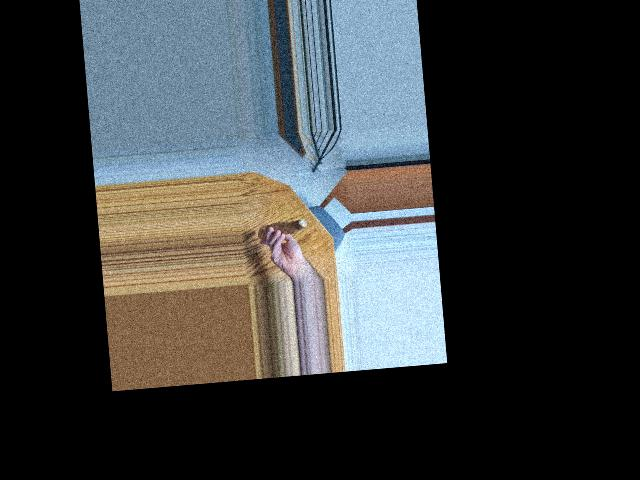sweet_potato: (257, 218, 311, 238)
